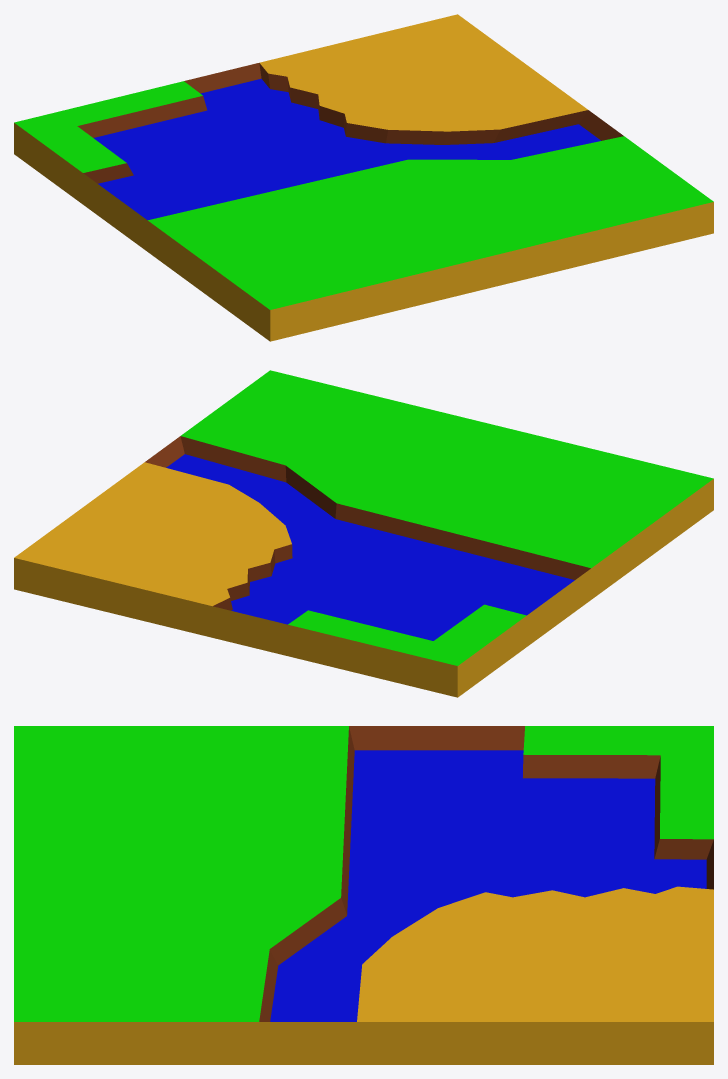
File: World.fbx
3 views of the same model, one above another, from view 1: azimuth 30°, elevation 25°; view 2: azimuth 150°, elevation 25°; view 3: azimuth 270°, elevation 25° (orthographic). The views are drawn at different scales.
Parts seen in each view (by area): view 1: Cube; view 2: Cube; view 3: Cube.
Part boxes in pixels (x1,y1,x2,y2): Cube: [14, 14, 713, 341]; Cube: [14, 370, 713, 697]; Cube: [14, 726, 713, 1064].
Size of the model in its own units: 20000 by 1360 by 20000.
